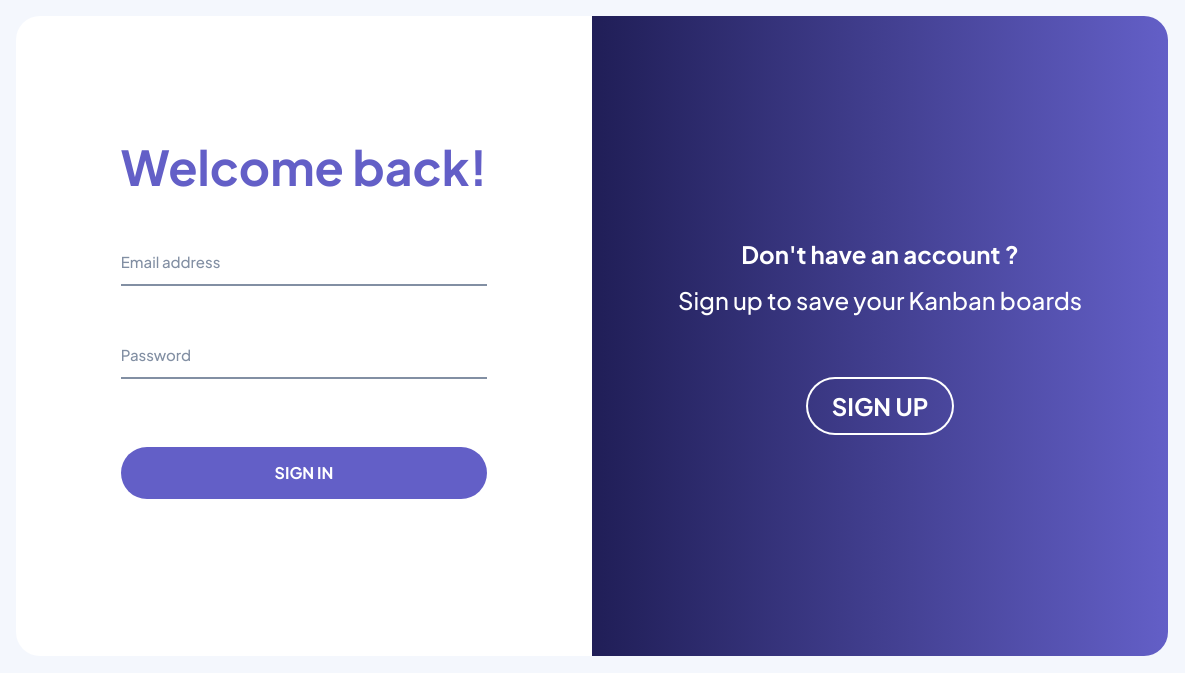
Test: Sign up page › attempts to sign up with mismatched passwords
# switch to sign up form
Click the button with id "signup-overlay-btn".
click(881, 406)  # box x1=808 y1=379 x2=953 y2=433
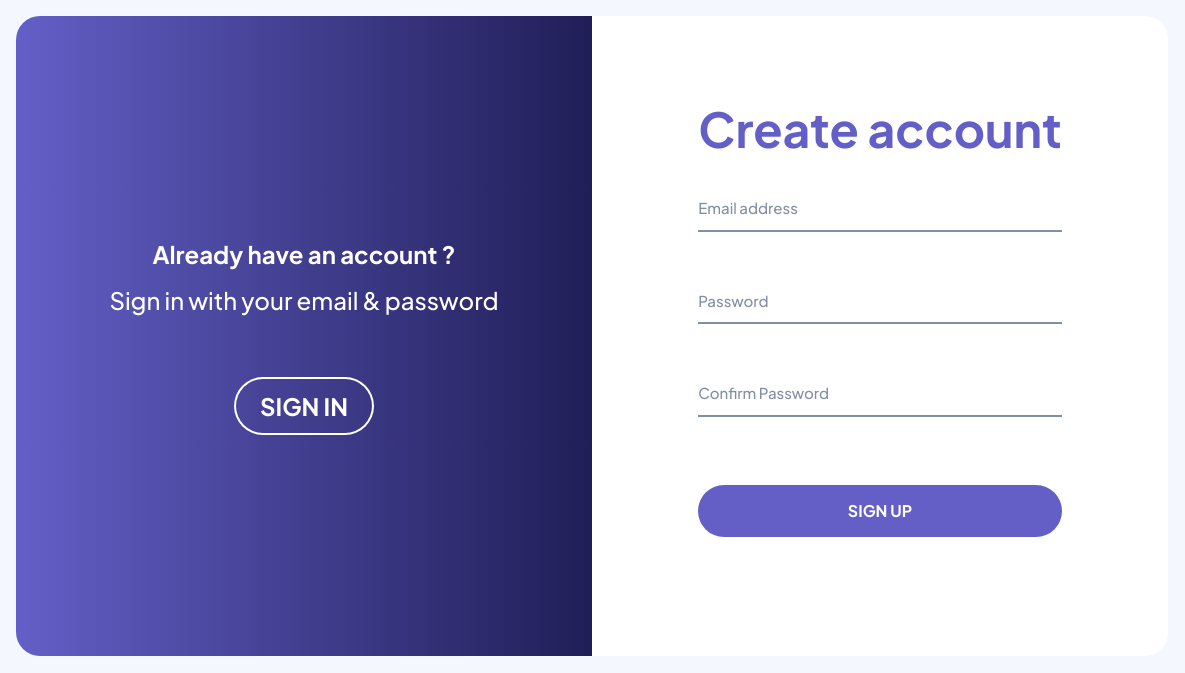
# enter email and mismatched passwords
Type "cypress@test.com" into the field with id "signup-email".
click(880, 212); type("cypress@test.com")  # box x1=698 y1=191 x2=1062 y2=232
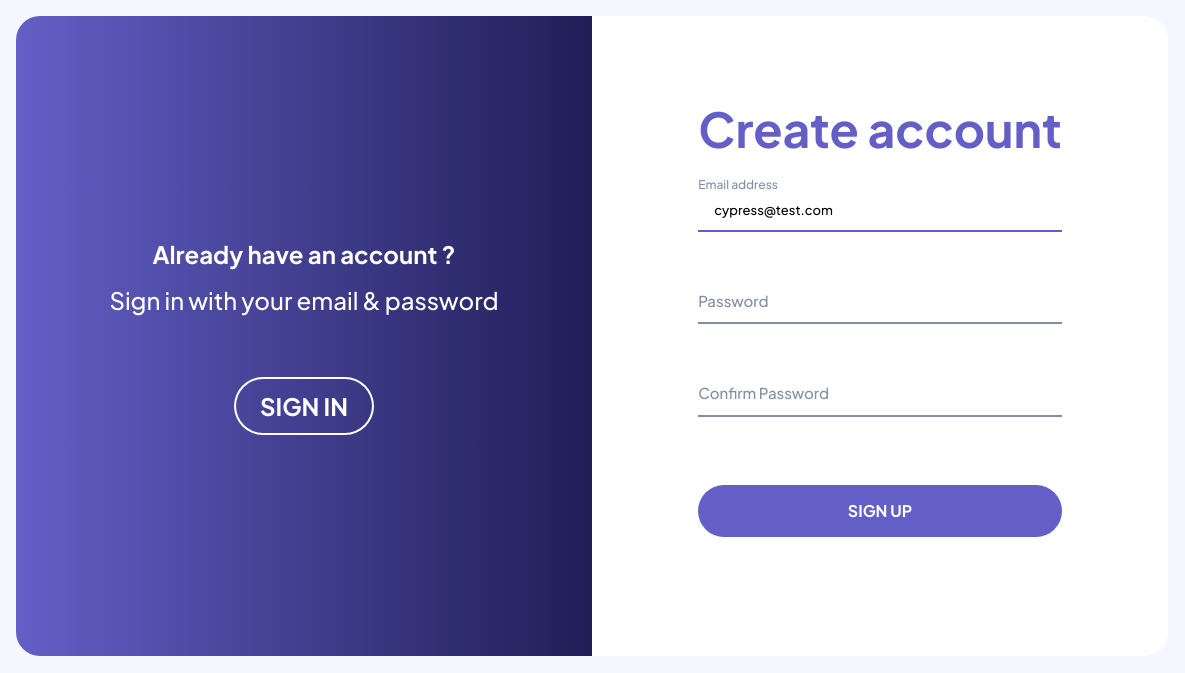
Type "password" into the password field with id "signup-password".
click(880, 305); type("password")  # box x1=698 y1=284 x2=1062 y2=325
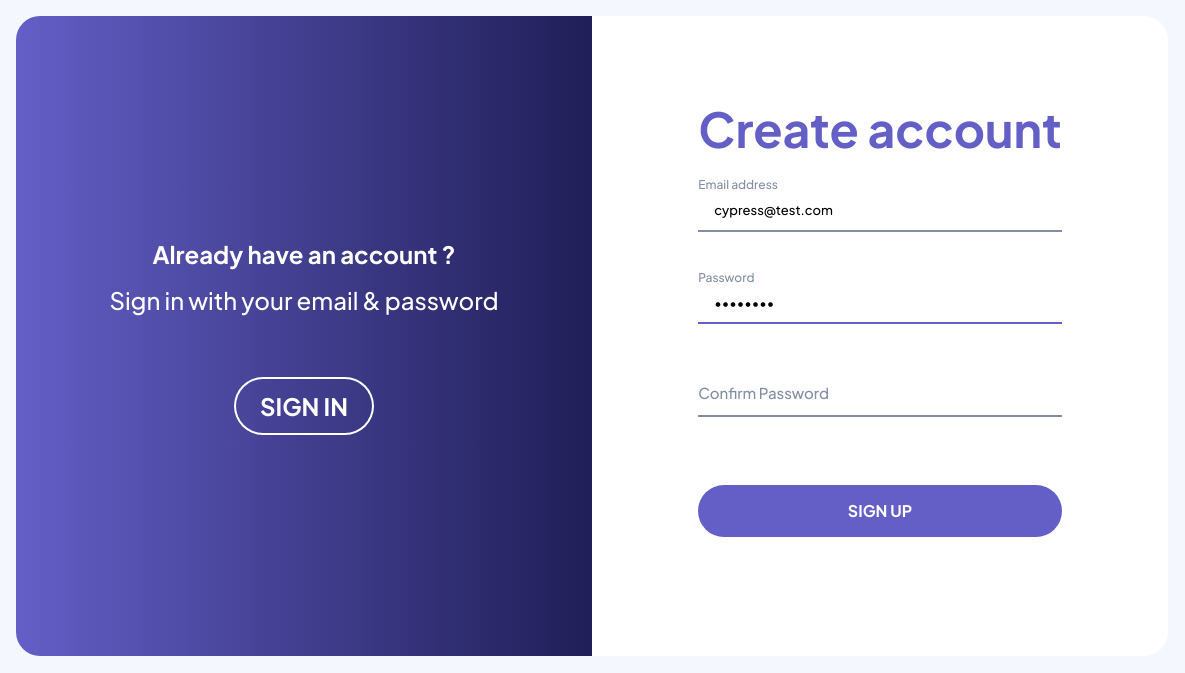
Type "differentPassword" into the password field with id "signup-password-confirmation".
click(880, 397); type("differentPassword")  # box x1=698 y1=376 x2=1062 y2=417
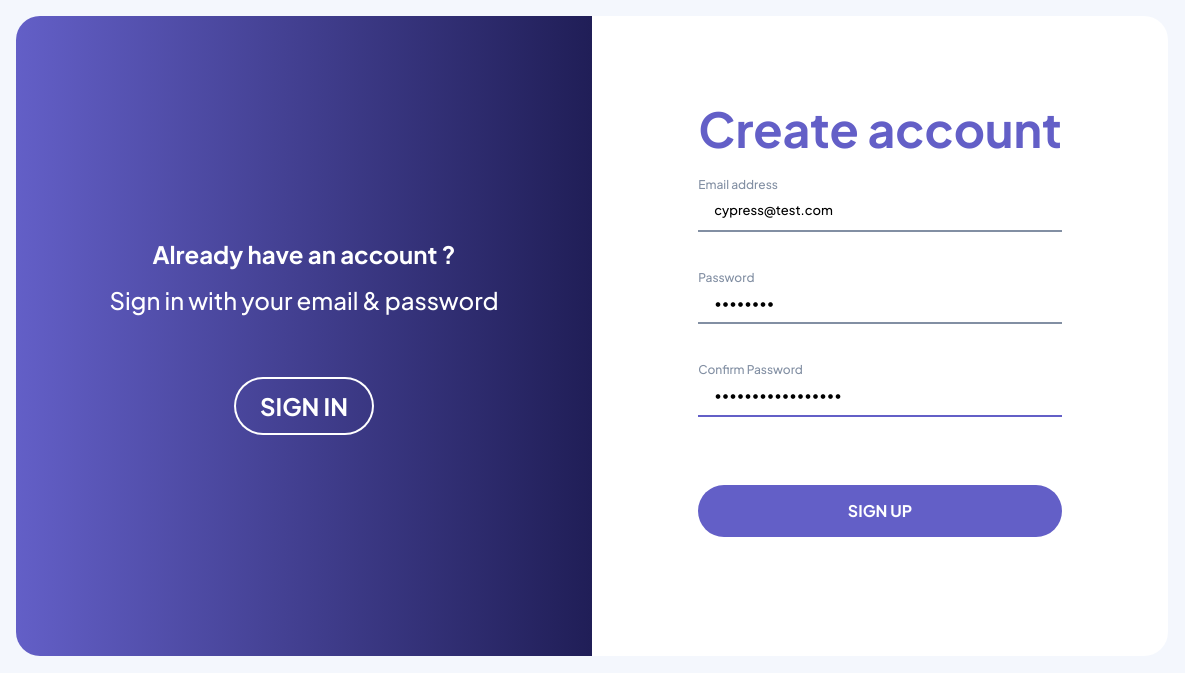
# click the sign up button
Click the button "Sign Up".
click(880, 511)  # box x1=698 y1=485 x2=1062 y2=537
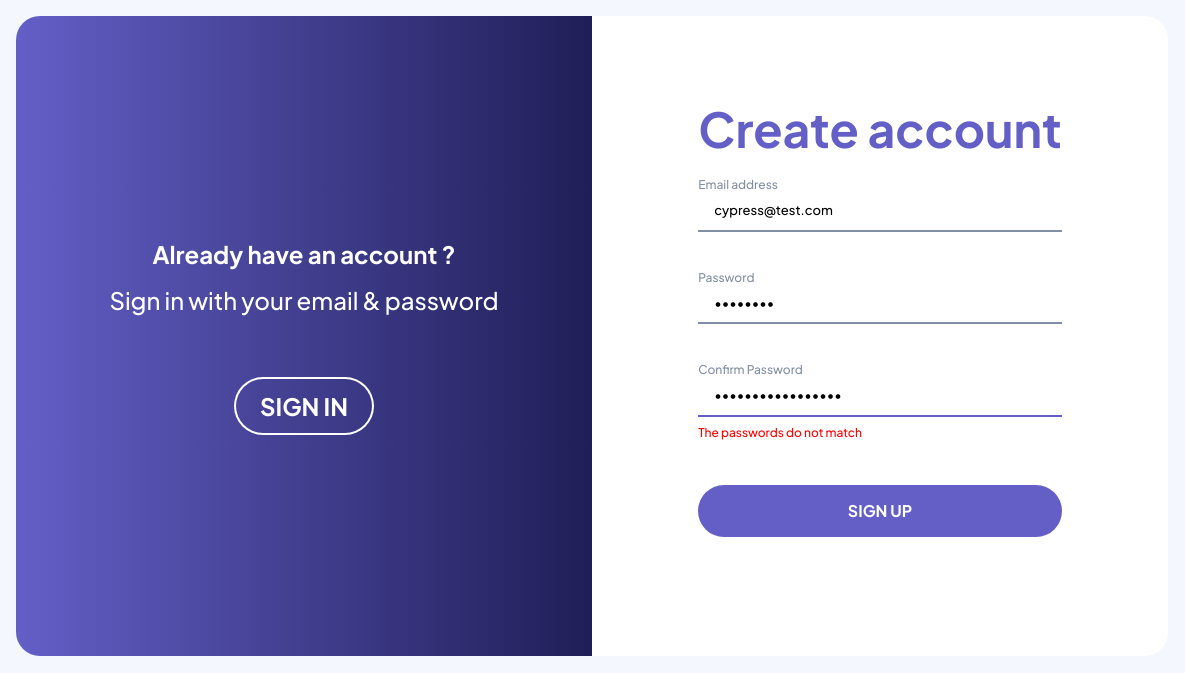
Expected: the text "The passwords do not match" is shown, x1=698 y1=425 x2=862 y2=440
